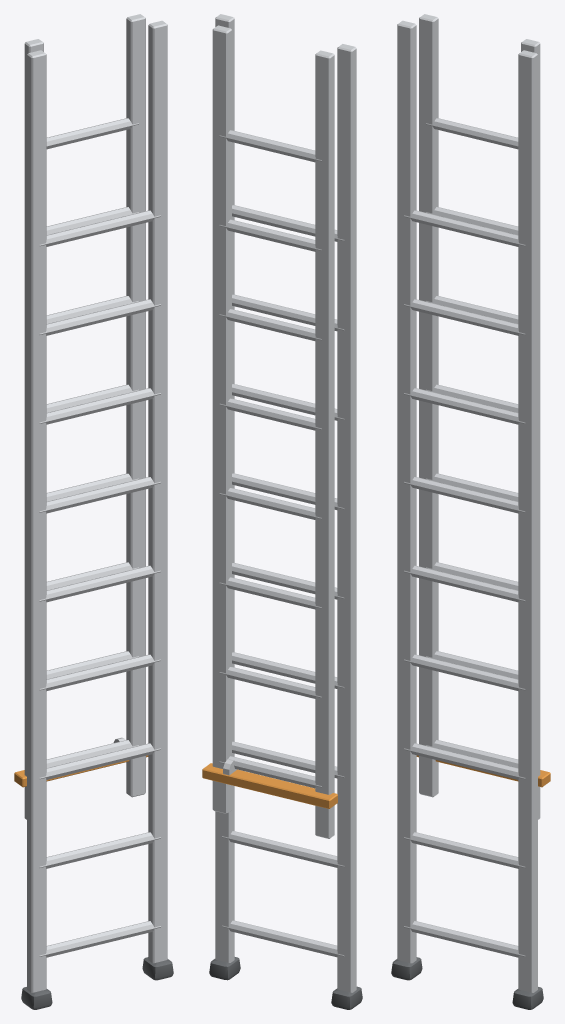
File: extension-ladder.glb
3 renders of one model, left to right at view 1: azimuth 30°, elevation 25°; view 2: azimuth 150°, elevation 25°; view 3: azimuth 330°, elevation 25°, orthographic.
Visible parts, largest first — view 1: extension-ladder; view 2: extension-ladder; view 3: extension-ladder.
Boxes of the visible parts, <box> form: extension-ladder: <box>14,14,173,1009</box>; extension-ladder: <box>202,14,362,1009</box>; extension-ladder: <box>391,14,550,1009</box>.
Size of the model in its own units: 0.47 by 3 by 0.155.
